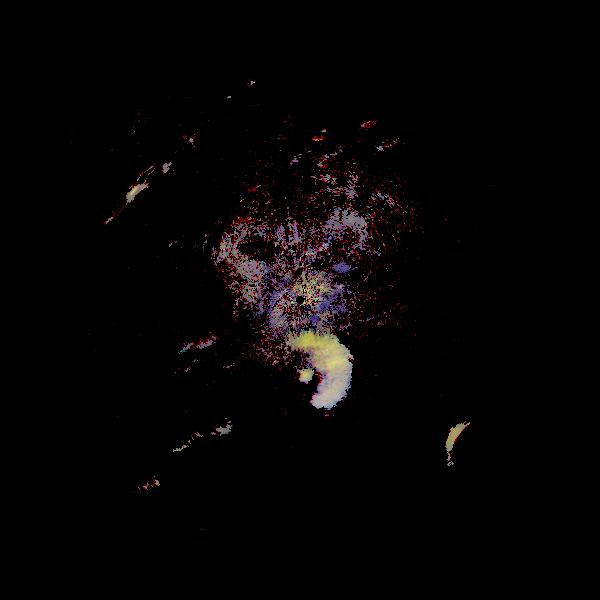roost: (246, 313, 369, 436), (436, 414, 508, 486)
